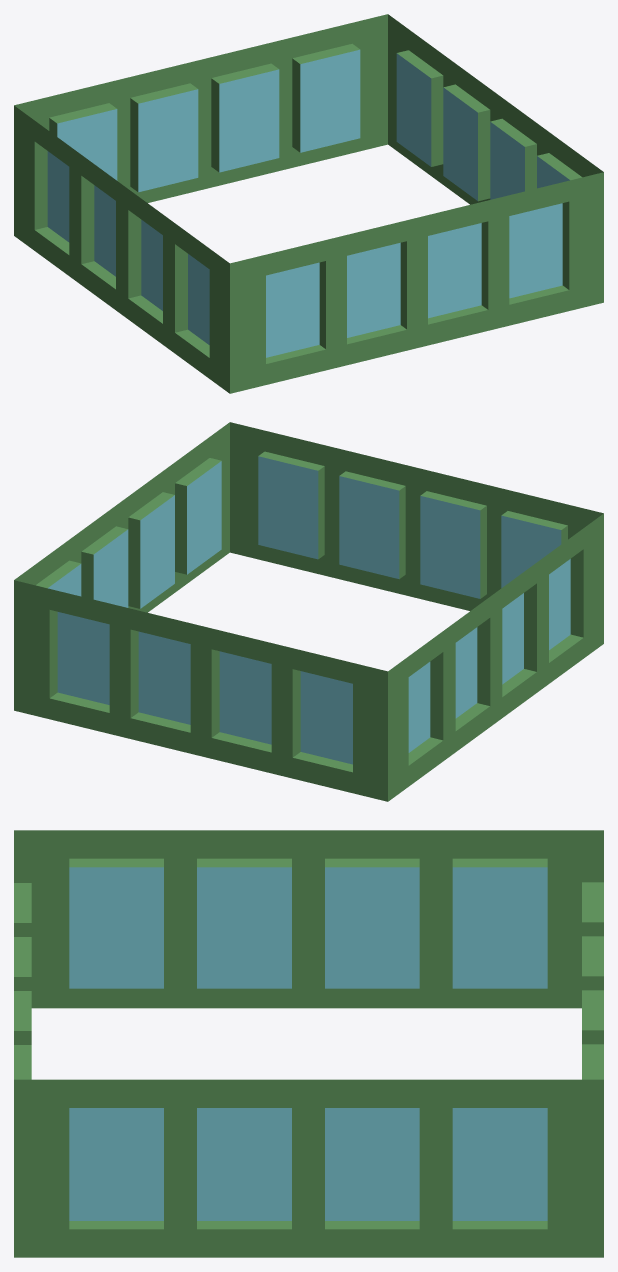
File: SkyScraper_Middle_02_green.fbx
The picture shows the model from 3 angles, top to bottom: view 1: azimuth 30°, elevation 25°; view 2: azimuth 150°, elevation 25°; view 3: azimuth 270°, elevation 25°; orthographic projection. The views are drawn at different scales.
Visible parts, largest first — view 1: SkyScraper_Middle_05; view 2: SkyScraper_Middle_05; view 3: SkyScraper_Middle_05.
Boxes of the visible parts, x1=… form: SkyScraper_Middle_05: x1=14, y1=14, x2=603, y2=393; SkyScraper_Middle_05: x1=14, y1=422, x2=603, y2=801; SkyScraper_Middle_05: x1=14, y1=830, x2=603, y2=1257.
Bounding box in the file's own units: 96 × 32 × 96.
